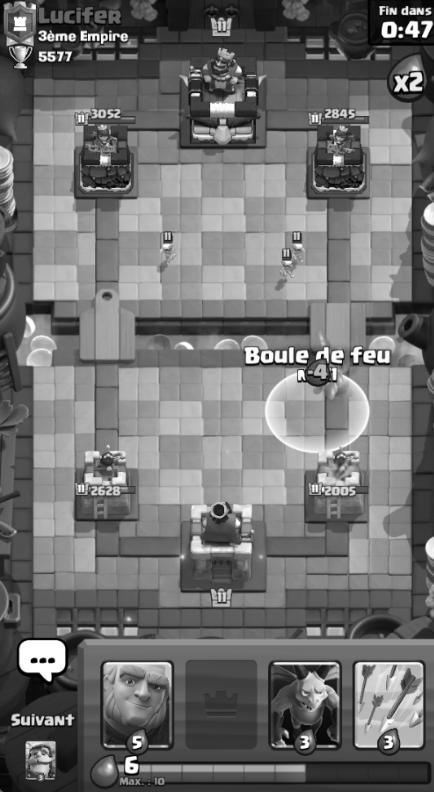squelette: (278, 257, 297, 279), (158, 243, 176, 263), (292, 243, 305, 262)
